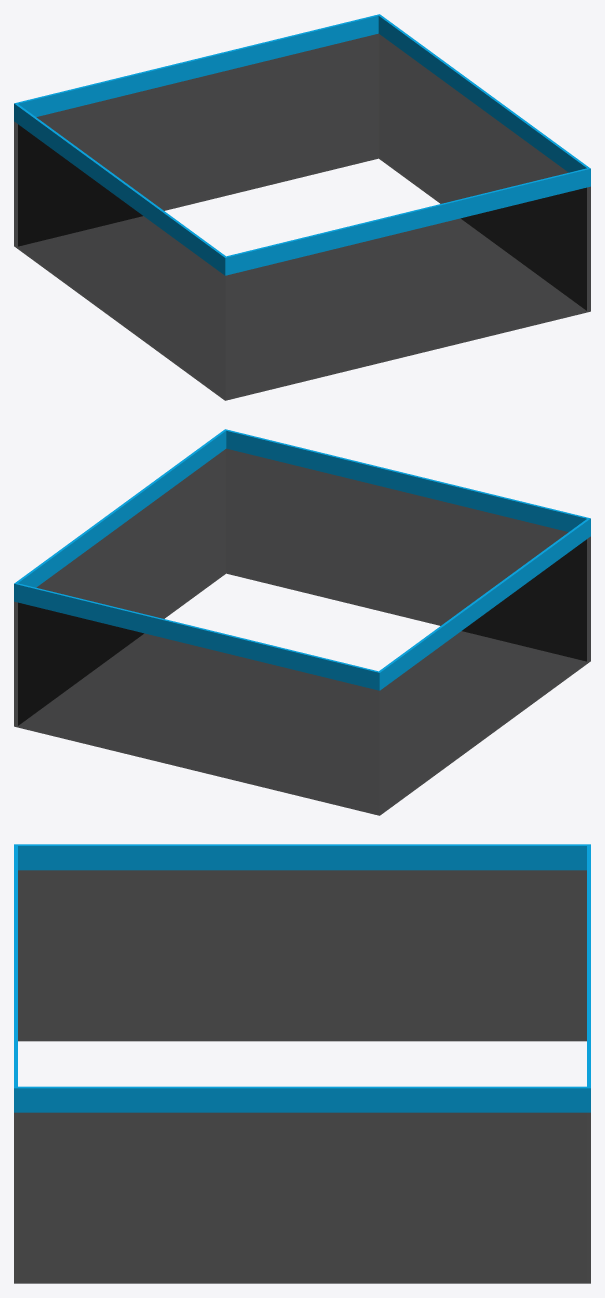
File: SG4 Blue + Glass.glb
3 views of the same model, one above another, from view 1: azimuth 30°, elevation 25°; view 2: azimuth 150°, elevation 25°; view 3: azimuth 270°, elevation 25° (orthographic). The views are drawn at different scales.
Parts seen in each view (by area): view 1: SG-4-Wall.Closed; view 2: SG-4-Wall.Closed; view 3: SG-4-Wall.Closed.
Boxes of the visible parts, x1,y1,x2,y2 form: SG-4-Wall.Closed: (14,14,590,400); SG-4-Wall.Closed: (14,429,590,815); SG-4-Wall.Closed: (14,844,590,1283).
Size of what is drawn, in the model's own units: 15 by 5.6 by 15.
Materials: 2 (1 with a texture image).
